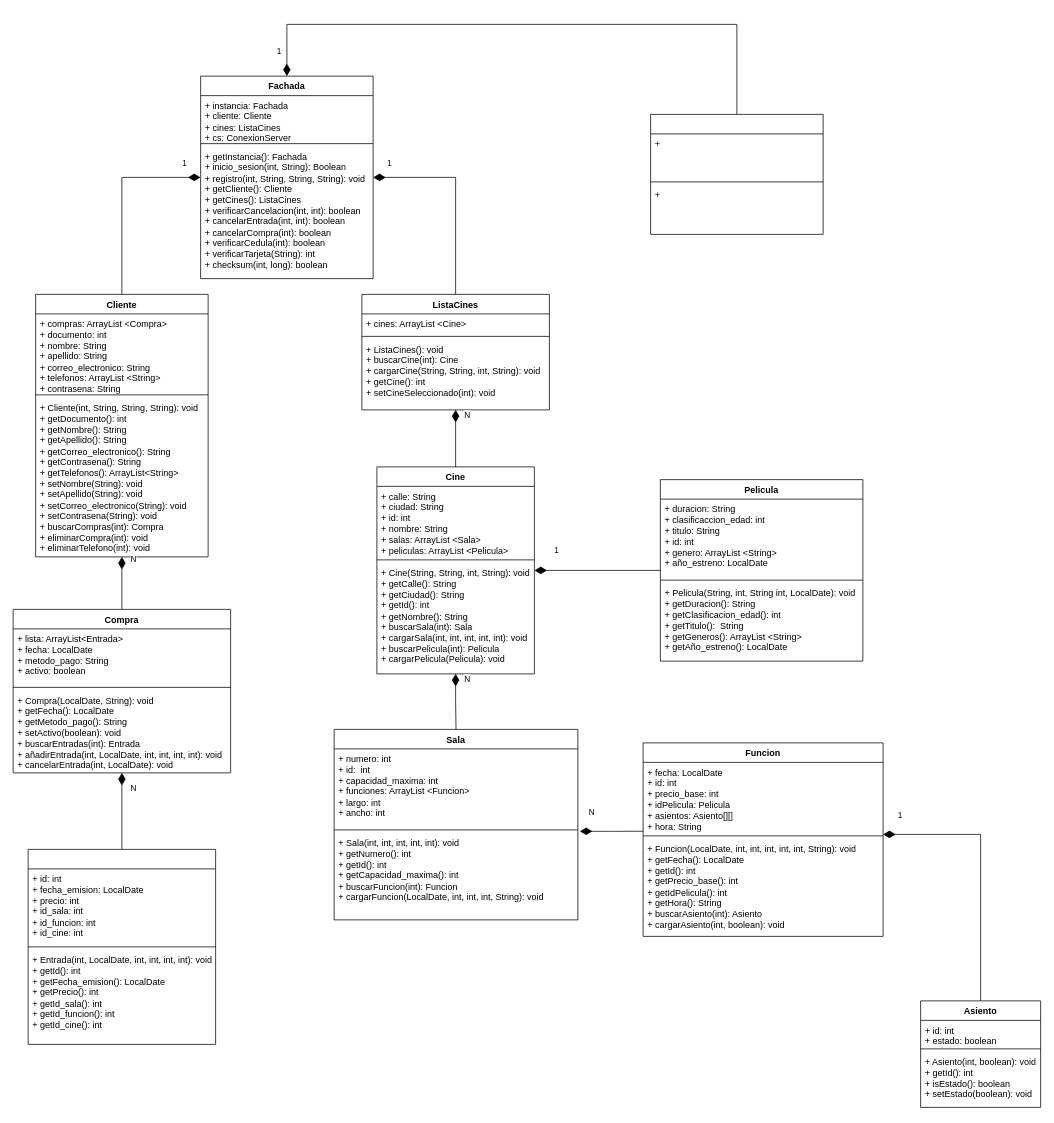
Image size: 1054x1123. Some labels were removed from this diagram. The shapes that lost their labels are listed below. From the top down, each one's box as (x1, y1, x2, y2) in pixels, then its label:
(650, 114, 823, 234): ConexionServer
(27, 849, 216, 1044): Entradas
